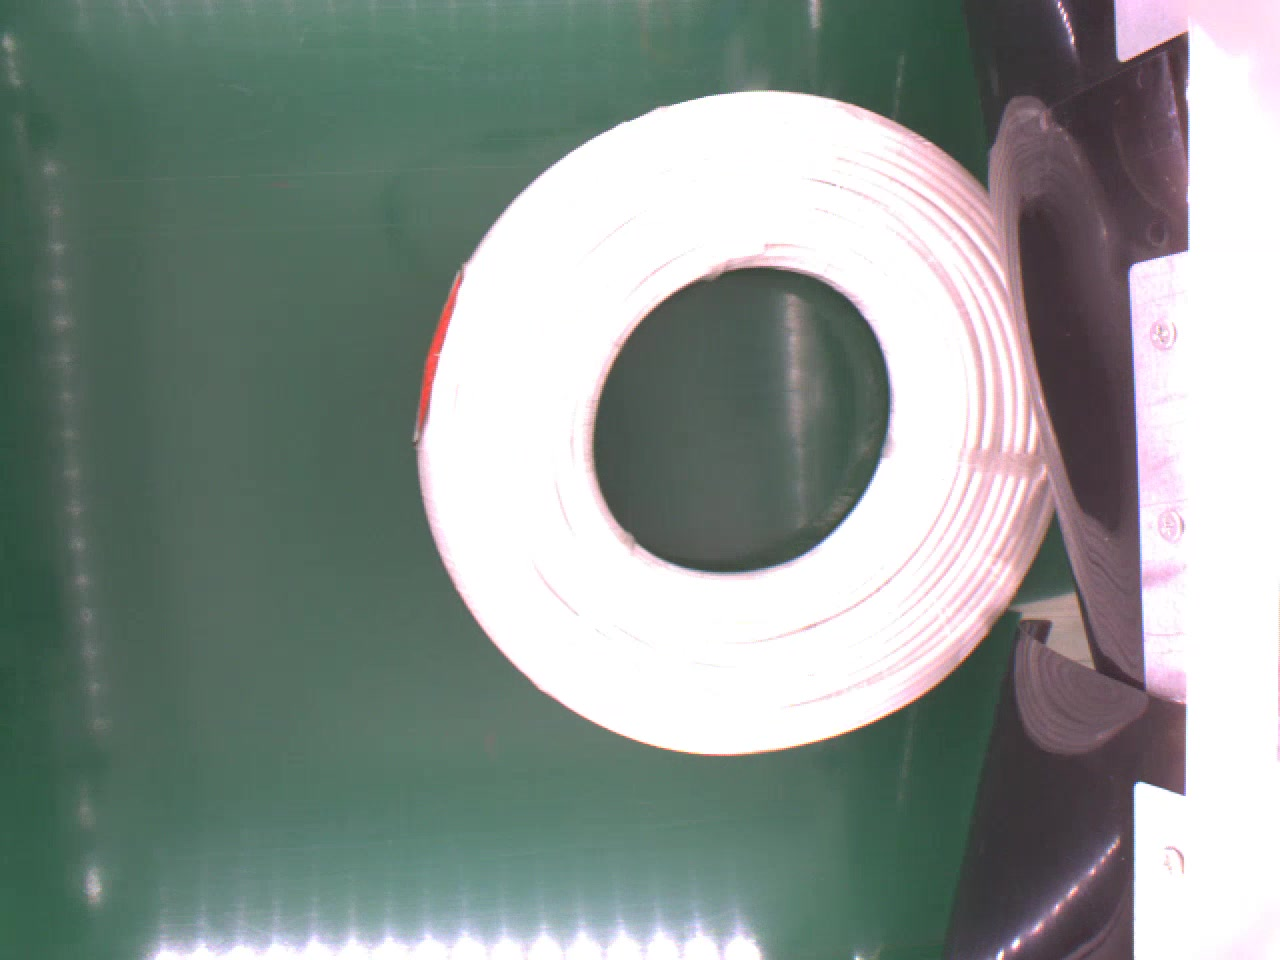white: (405, 86, 1057, 763)
